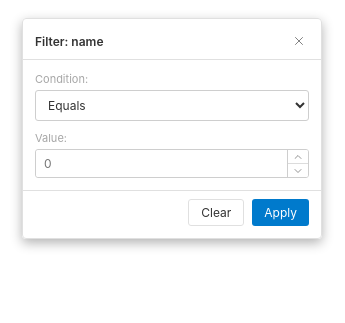
Test: FilterPopup › number column filters (int/decimal/float) › shows between fields when Between selected
Select "Between" in the dropdown at (172,106), box x1=35 y1=90 x2=309 y2=121
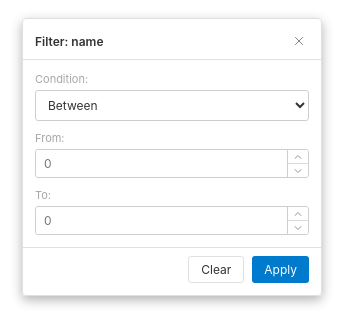
Expected: the text "From:" is shown, x1=35 y1=131 x2=64 y2=145
Expected: the text "To:" is shown, x1=35 y1=188 x2=51 y2=202
